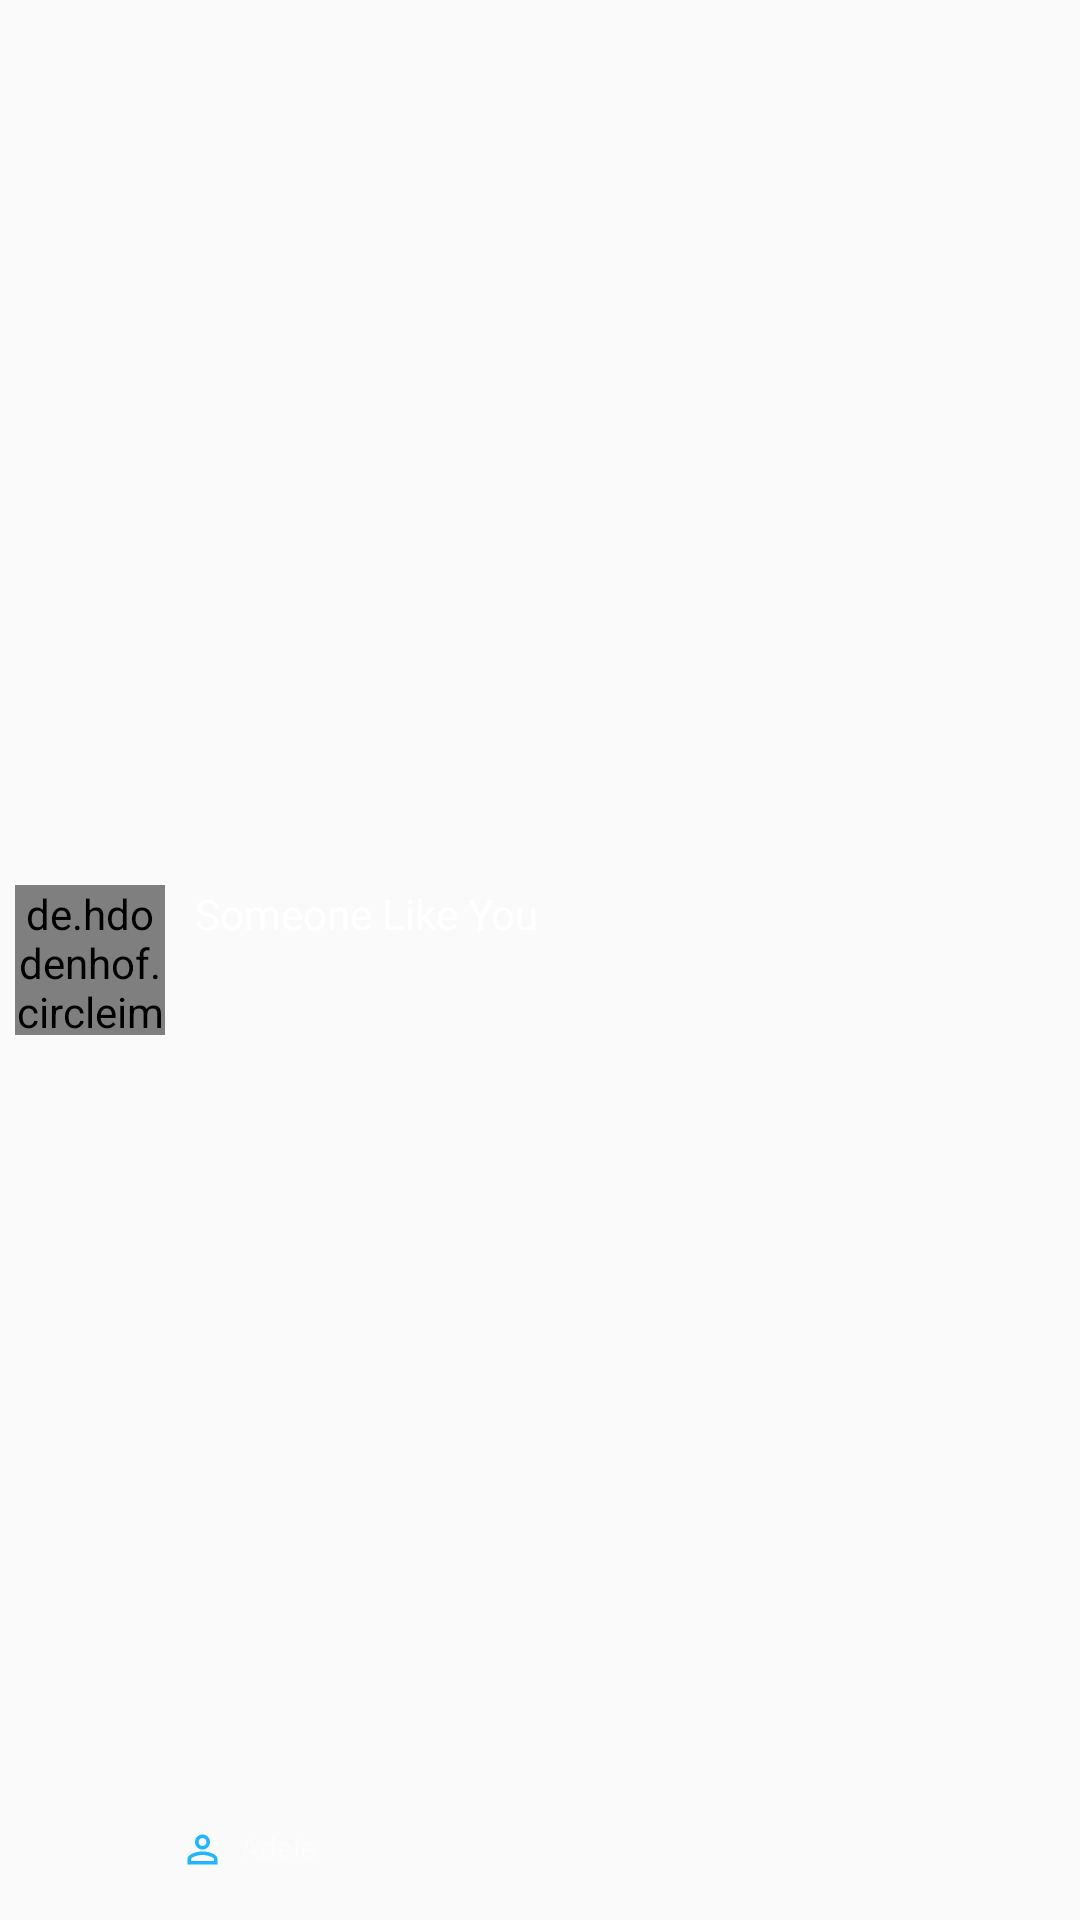

Named icons in this screenshot (1080px×1920px) and their centers, point (x, y):
artists: point (202, 1849)
